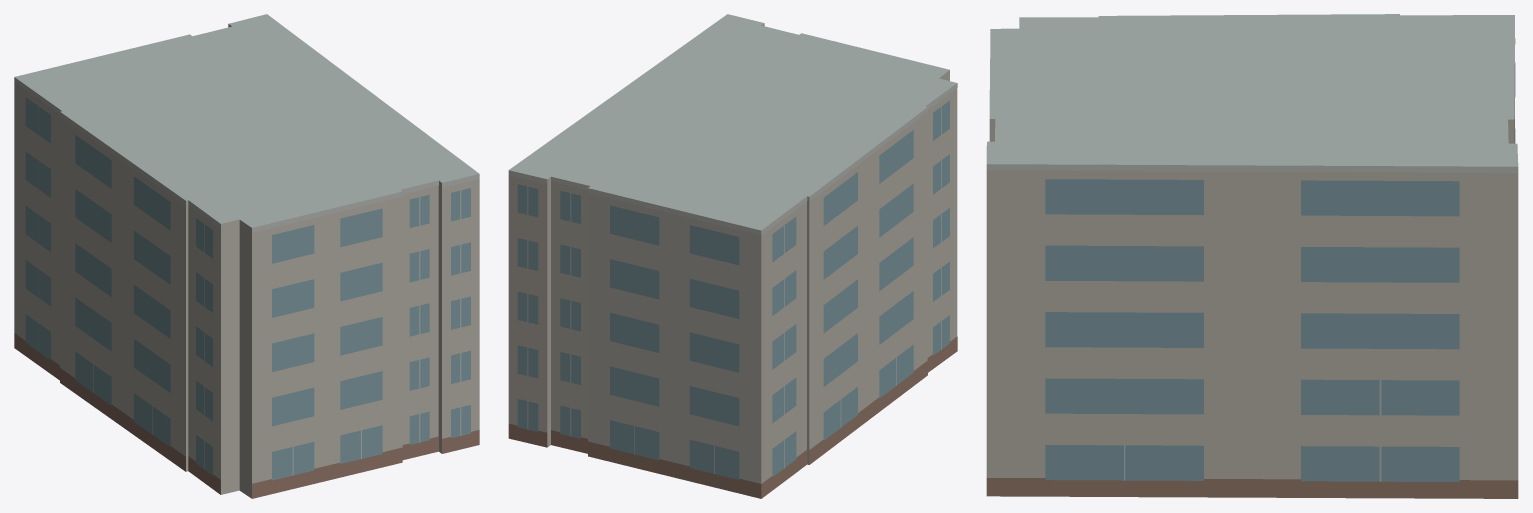
The model's file is survey-upis-32659225.glb.
The picture shows the model from 3 angles, left to right: view 1: azimuth 30°, elevation 25°; view 2: azimuth 150°, elevation 25°; view 3: azimuth 270°, elevation 25°; orthographic projection. The views are drawn at different scales.
Visible parts, largest first — view 1: survey-upis-32659225.tmp; view 2: survey-upis-32659225.tmp; view 3: survey-upis-32659225.tmp.
Part boxes in pixels (left/top/right/bottom): survey-upis-32659225.tmp: left=14, top=14, right=479, bottom=498; survey-upis-32659225.tmp: left=508, top=14, right=957, bottom=498; survey-upis-32659225.tmp: left=986, top=14, right=1518, bottom=498.
Bounding box in the file's own units: 12.83 × 13 × 18.87.
